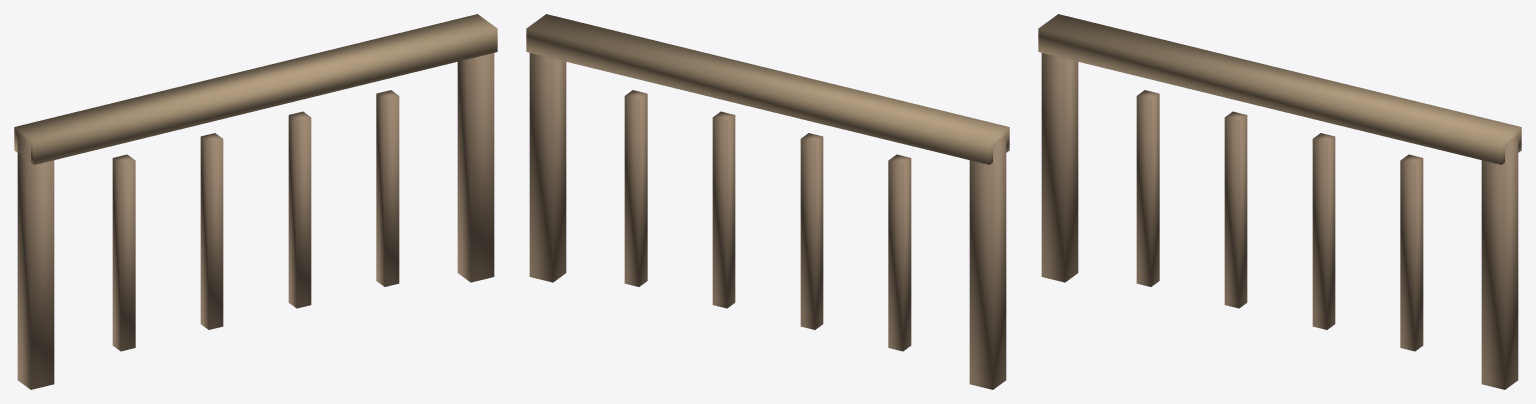
The model's file is court_rail__squat.glb.
3 views of the same model, side by side, from view 1: azimuth 30°, elevation 25°; view 2: azimuth 150°, elevation 25°; view 3: azimuth 330°, elevation 25° (orthographic).
Visible parts, largest first — view 1: world; view 2: world; view 3: world.
Boxes of the visible parts, x1=… form: world: x1=14, y1=14, x2=497, y2=389; world: x1=526, y1=14, x2=1009, y2=389; world: x1=1038, y1=14, x2=1521, y2=389.
Size of the model in its own units: 1.74 by 0.8988 by 0.1296.
